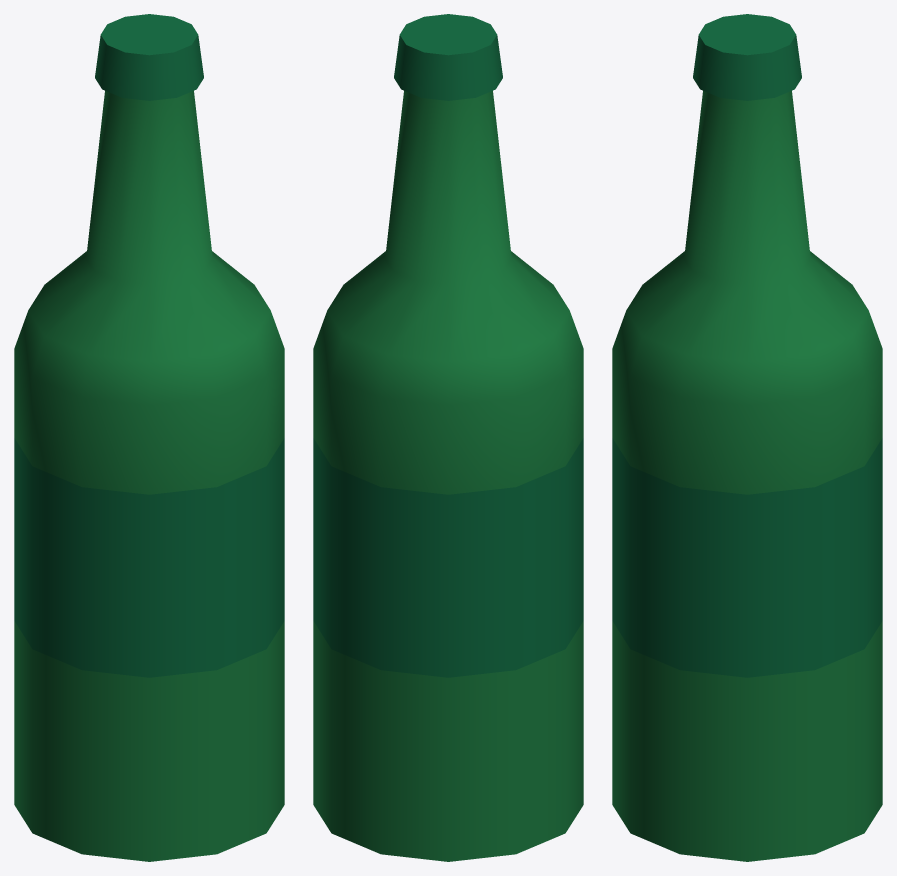
File: Bottle.fbx
3 renders of one model, left to right at view 1: azimuth 30°, elevation 25°; view 2: azimuth 150°, elevation 25°; view 3: azimuth 270°, elevation 25°, orthographic.
Visible parts, largest first — view 1: Bottle; view 2: Bottle; view 3: Bottle.
Boxes of the visible parts, x1=… form: Bottle: x1=14, y1=14, x2=284, y2=861; Bottle: x1=313, y1=14, x2=583, y2=861; Bottle: x1=612, y1=14, x2=882, y2=861.
Bounding box in the file's own units: 0.1046 × 0.1046 × 0.3288.
